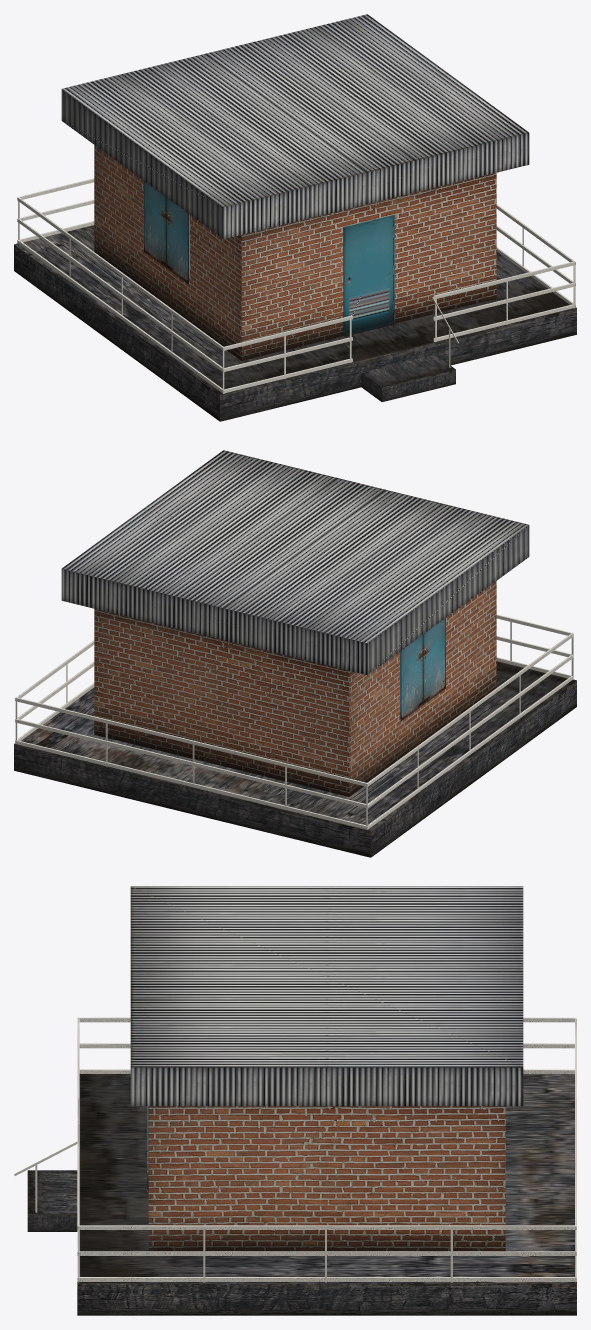
The model's file is r254_moskalenki_dps.FBX.
The picture shows the model from 3 angles, top to bottom: view 1: azimuth 30°, elevation 25°; view 2: azimuth 150°, elevation 25°; view 3: azimuth 270°, elevation 25°; orthographic projection. The views are drawn at different scales.
Parts seen in each view (by area): view 1: r254_moskalenki_dps; view 2: r254_moskalenki_dps; view 3: r254_moskalenki_dps.
Part boxes in pixels (<box>): r254_moskalenki_dps: <box>14,14,576,421</box>; r254_moskalenki_dps: <box>14,450,576,857</box>; r254_moskalenki_dps: <box>14,886,576,1315</box>.
Bounding box in the file's own units: 7 × 7.89 × 3.6.
